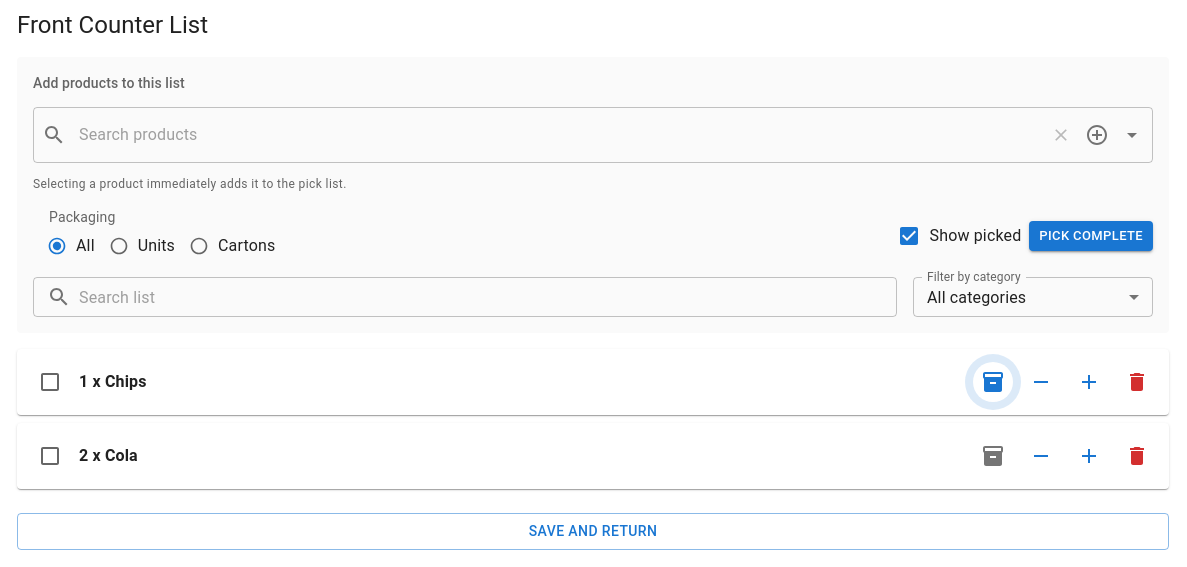
ActivePickListScreen product search › enables packaging filters when both packaging types are visible and filters items
Expected: the radio button labelled "Units" is enabled, left=109, top=236, right=175, bottom=256
// Select cartons option and ensure units are filtered out
Click the radio button labelled "Cartons" at (232,246), box left=189, top=236, right=275, bottom=256
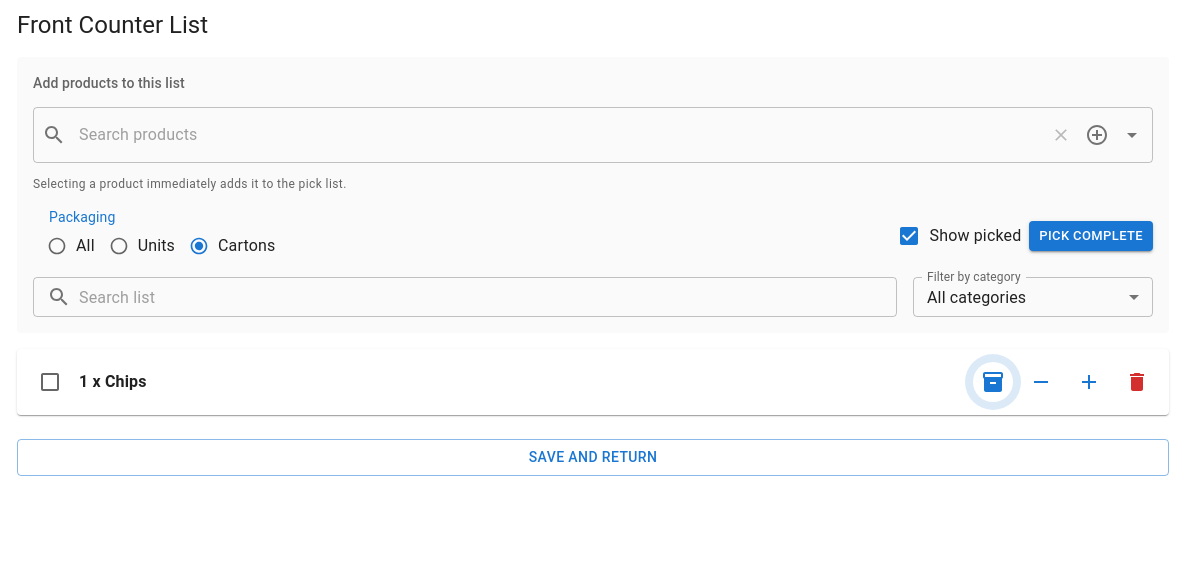
Expected: the text "Cola" is gone
